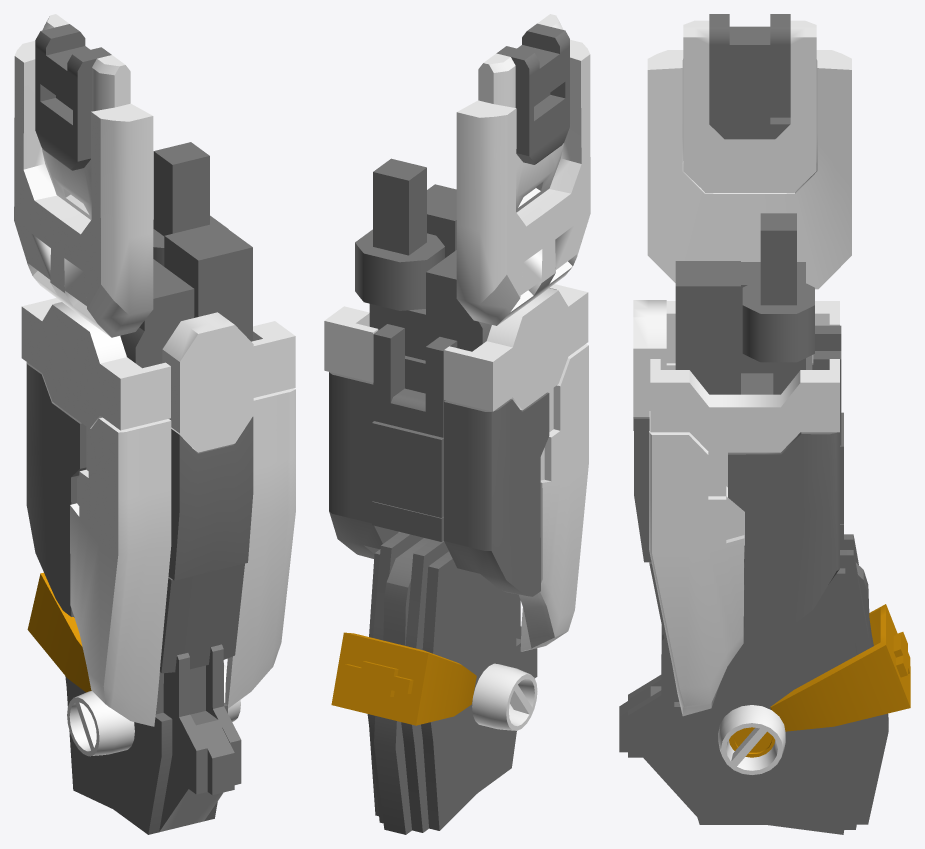
File: urightleg.obj
3 views of the same model, side by side, from view 1: azimuth 30°, elevation 25°; view 2: azimuth 150°, elevation 25°; view 3: azimuth 270°, elevation 25° (orthographic). The views are drawn at different scales.
Visible parts, largest first — view 1: urightleg; view 2: urightleg; view 3: urightleg.
Boxes of the visible parts, x1,y1,x2,y2 form: urightleg: (14, 14, 295, 834); urightleg: (324, 14, 590, 834); urightleg: (619, 14, 910, 834).
Size of the model in its own units: 2.56 by 10.33 by 3.58.
